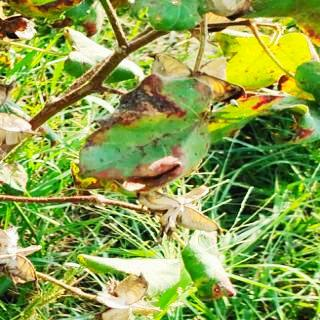blight: (74, 51, 273, 198)
